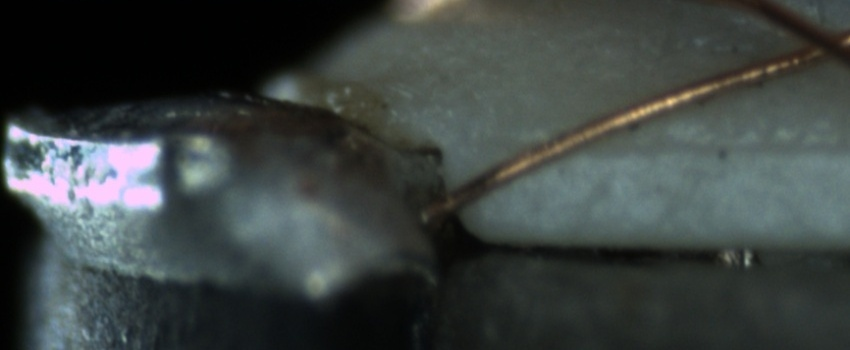CL: (760, 8, 848, 77)
DL: (522, 112, 850, 180)
